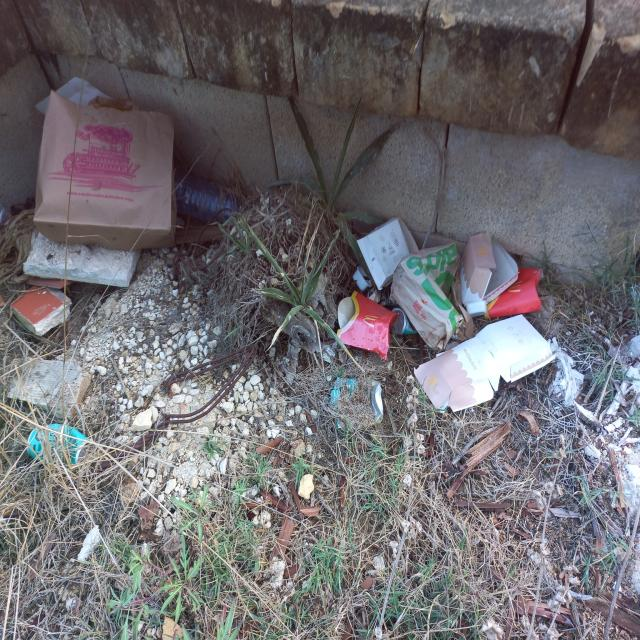Bottle: (174, 168, 247, 225)
Can: (330, 377, 387, 431), (26, 422, 91, 468), (392, 306, 418, 336)
Other litter: (10, 285, 71, 338), (611, 334, 640, 404), (621, 437, 640, 521), (463, 301, 488, 318)
Other plastic: (549, 334, 583, 402), (54, 76, 112, 105), (350, 265, 374, 291), (35, 94, 50, 116)
Paper: (34, 87, 183, 252), (414, 311, 565, 417), (392, 242, 478, 352), (459, 229, 520, 309), (357, 213, 418, 291), (336, 289, 399, 361), (484, 267, 545, 318)
